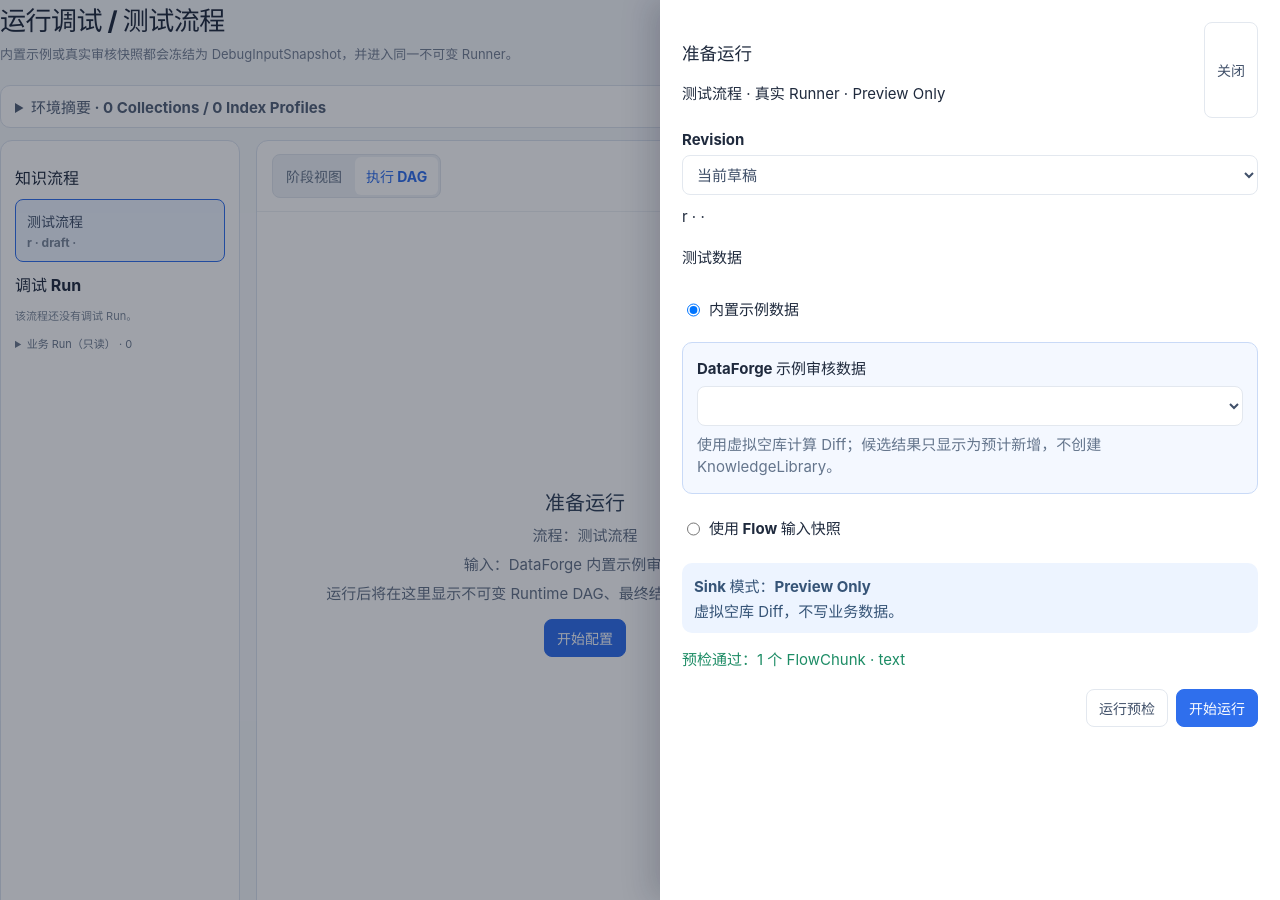
Test case: preflights a flow deep link automatically but not a changed draft checksum
Click the button "关闭" at (1231, 70), box [1204, 22, 1258, 118]
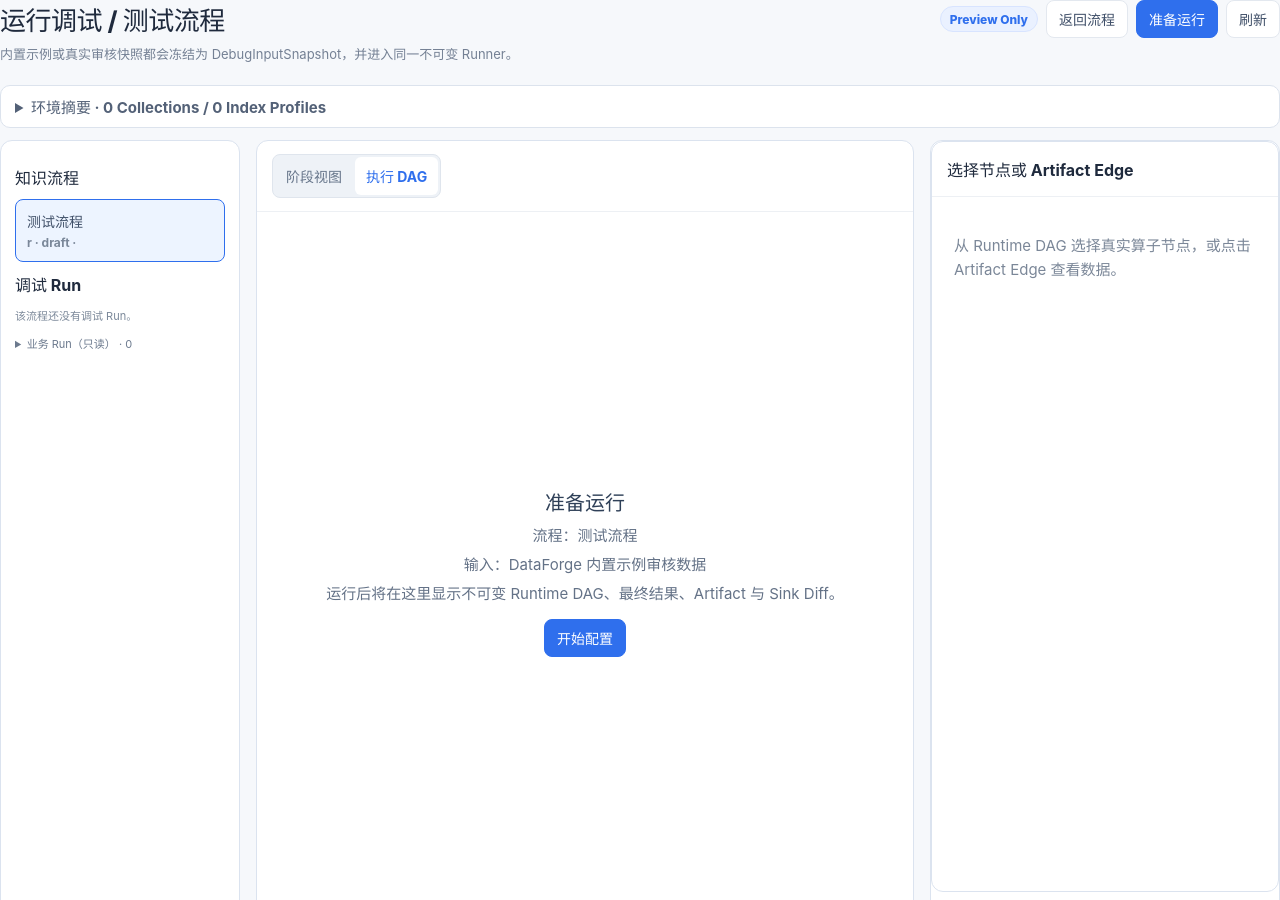
Click the button "准备运行" at (1177, 19), box [1136, 0, 1218, 38]
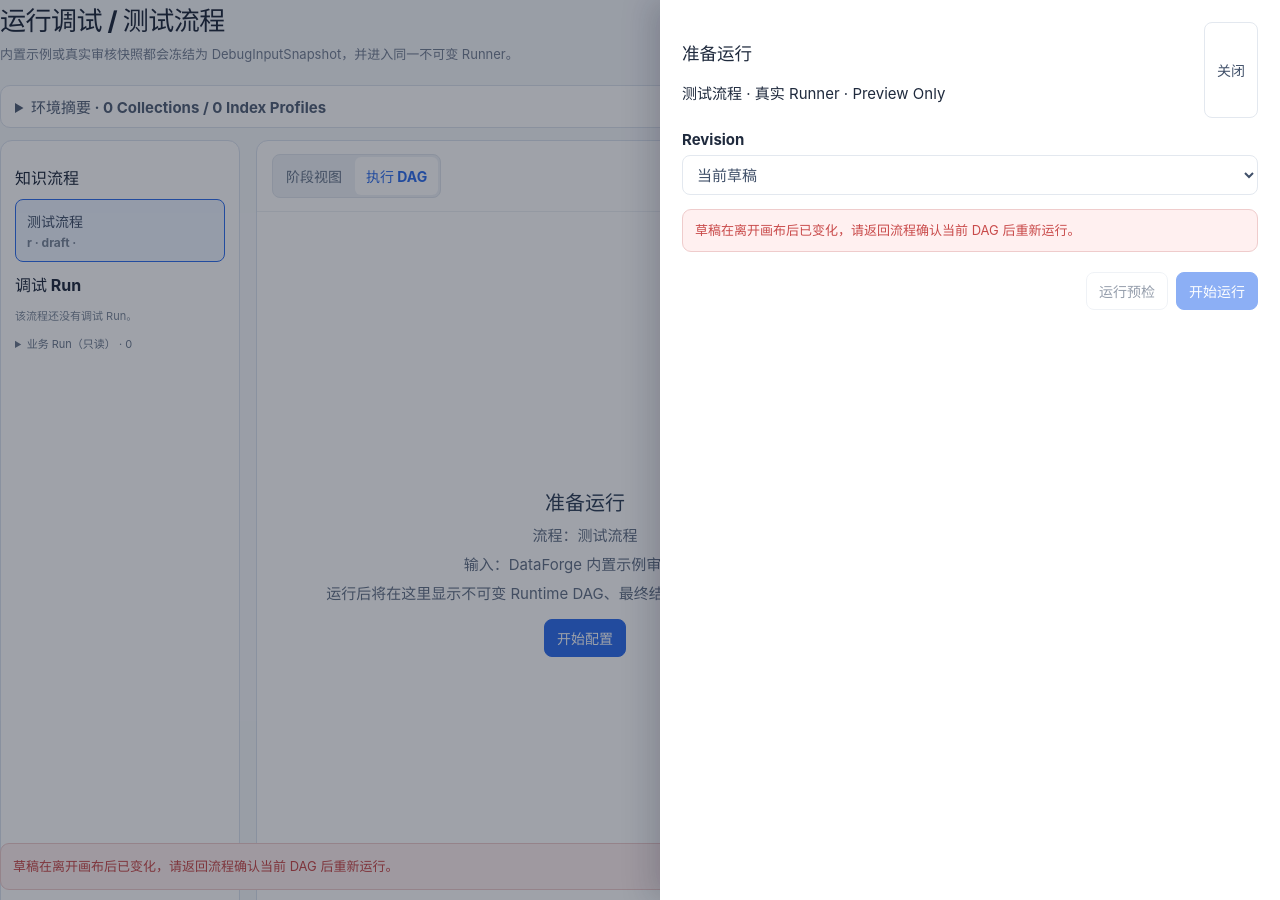
Result: the message "草稿在离开画布后已变化，请返回流程确认当前 DAG 后重新运行。" is shown at [682, 209, 1258, 252]
Result: the button "开始运行" is disabled at [1176, 272, 1258, 310]
